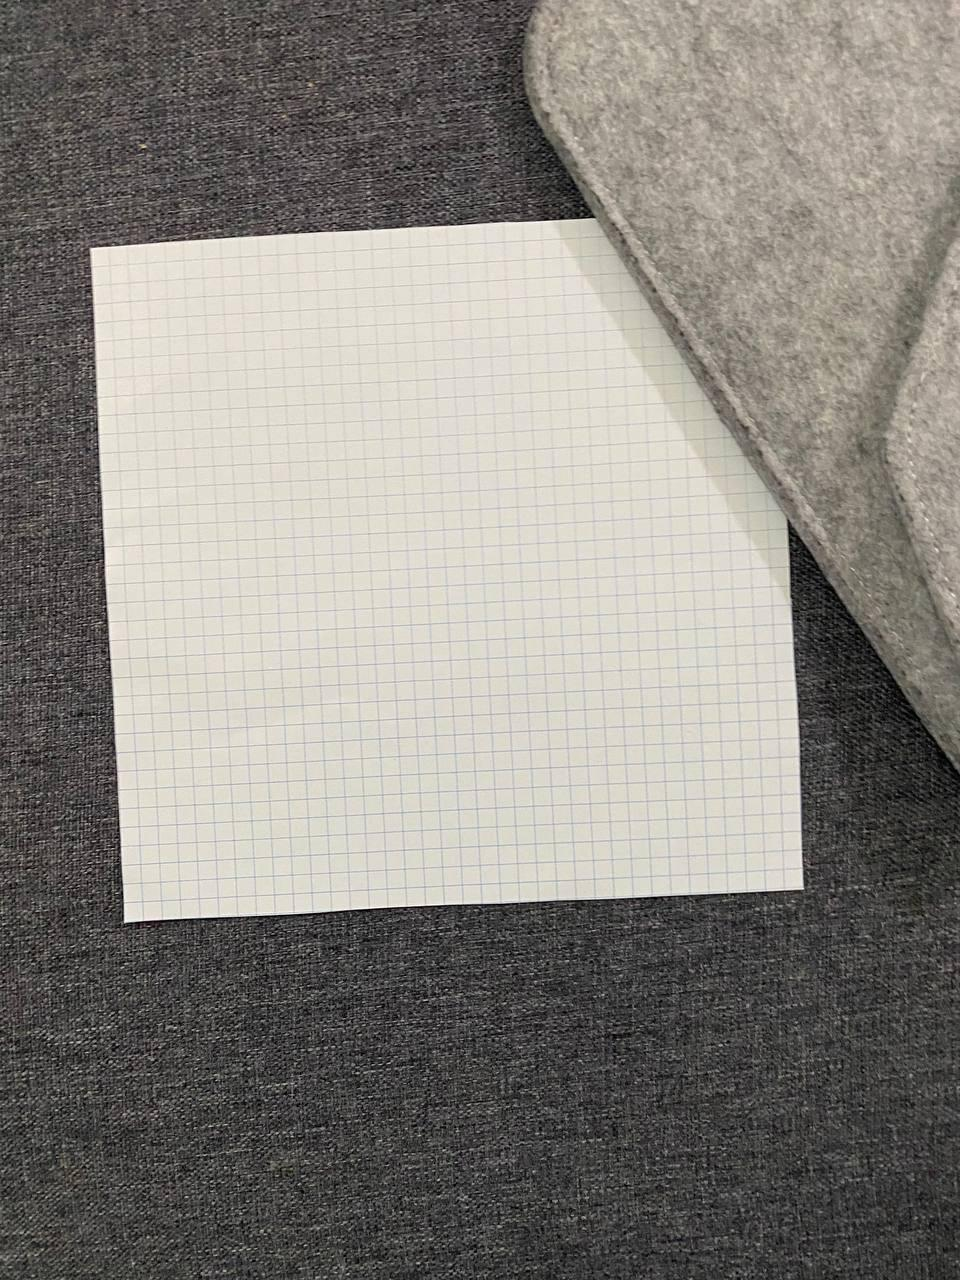grid: (70, 197, 816, 944)
